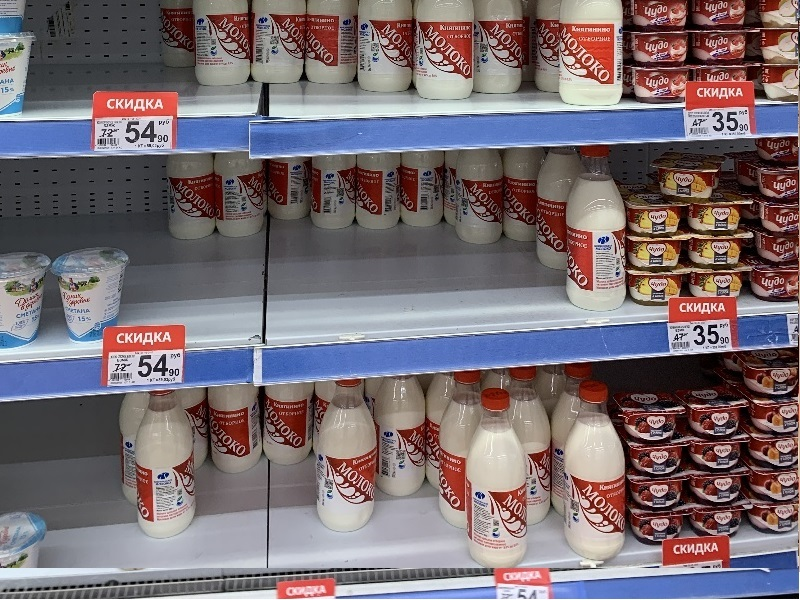milk: (457, 389, 536, 577), (559, 380, 636, 569), (310, 372, 390, 539), (561, 142, 634, 314), (131, 387, 205, 544)
